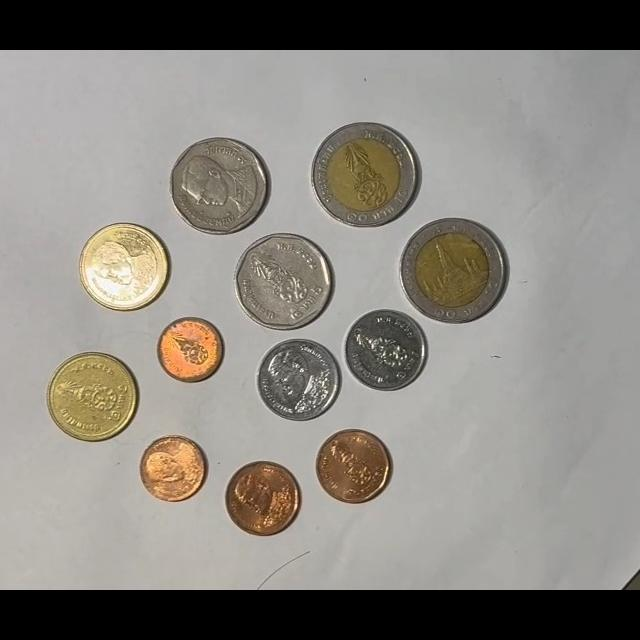1-baht: (256, 338, 340, 422), (344, 309, 427, 392)
10-baht: (311, 122, 419, 228), (399, 218, 506, 324)
2-baht: (47, 352, 139, 443), (78, 223, 168, 313)
25-satang: (139, 435, 209, 503), (157, 316, 225, 382)
5-baht: (234, 232, 333, 331), (169, 137, 269, 235)
50-satang: (224, 460, 301, 537), (315, 429, 392, 505)
